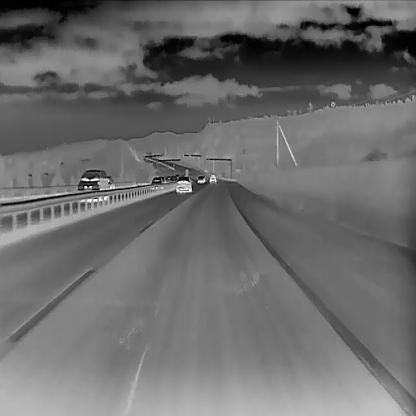car: (76, 168, 109, 202), (176, 175, 192, 192), (150, 175, 163, 189), (196, 174, 206, 183), (168, 174, 177, 183), (208, 173, 216, 182)
